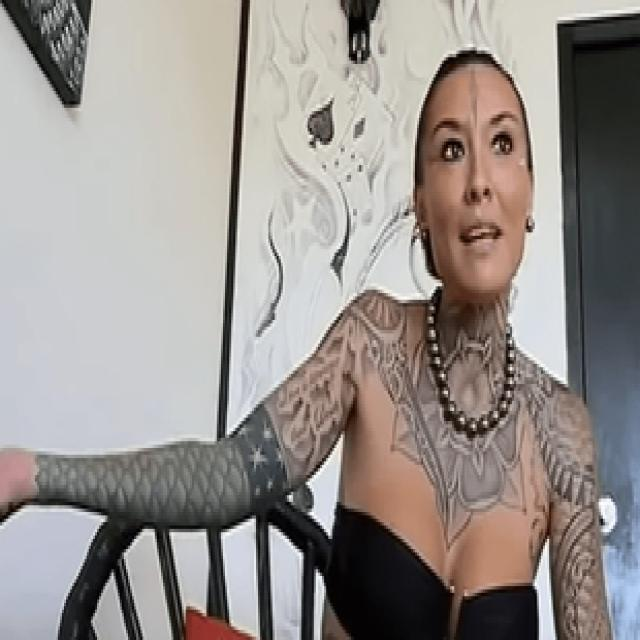mobile_phonerotation: (0, 0, 95, 108)
